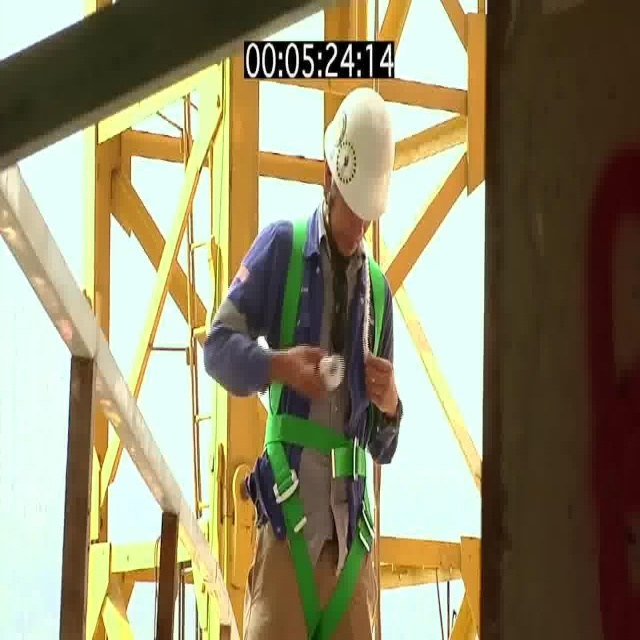Arnes_seguridad: (266, 217, 388, 626)
